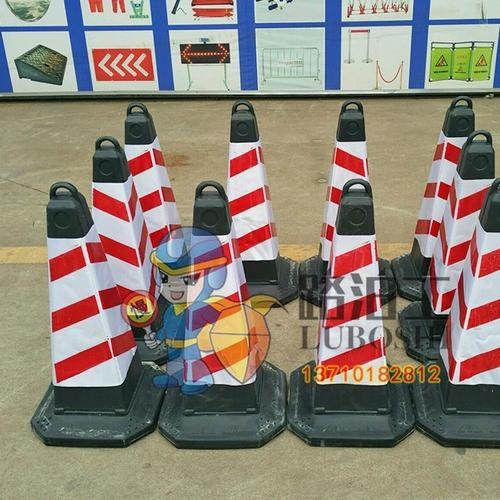cone_barrel: (165, 183, 277, 434), (35, 185, 147, 433), (296, 185, 410, 427), (88, 137, 169, 346), (435, 178, 499, 436), (416, 129, 494, 340), (401, 95, 474, 277), (306, 101, 380, 277), (223, 102, 287, 291), (122, 104, 188, 263)
